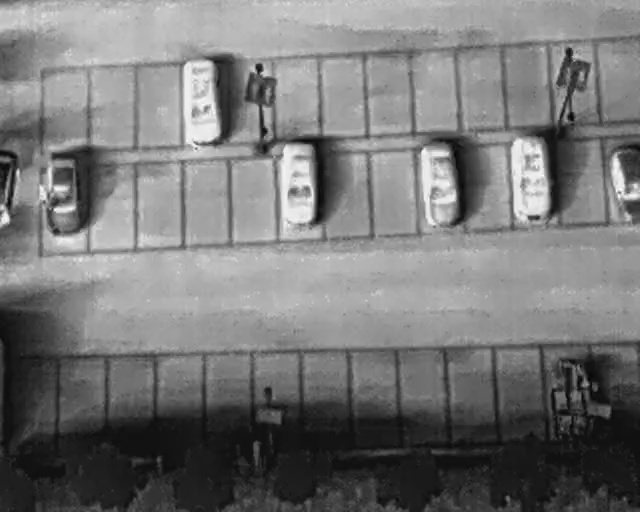Car: (414, 138, 465, 230), (42, 151, 85, 237), (182, 58, 222, 146), (513, 135, 552, 223), (282, 141, 317, 225), (608, 145, 639, 227)
